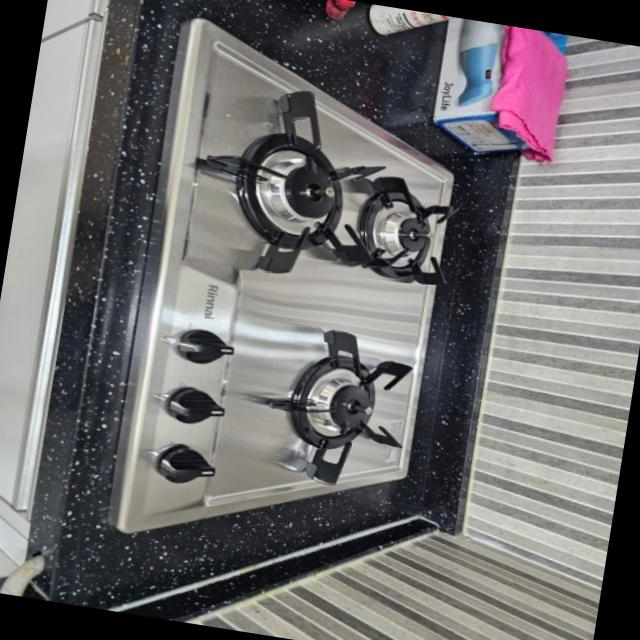knob_OFF: (206, 57, 351, 315), (335, 137, 482, 342), (278, 317, 428, 497)
